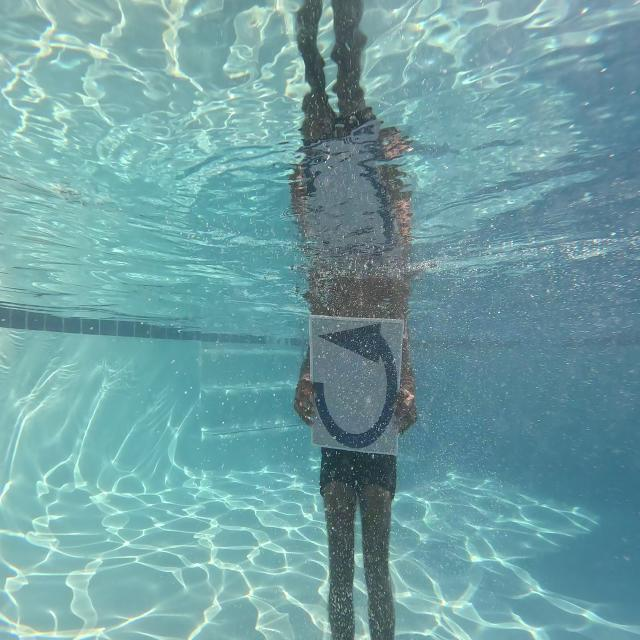blue_side: (309, 313, 403, 457)
